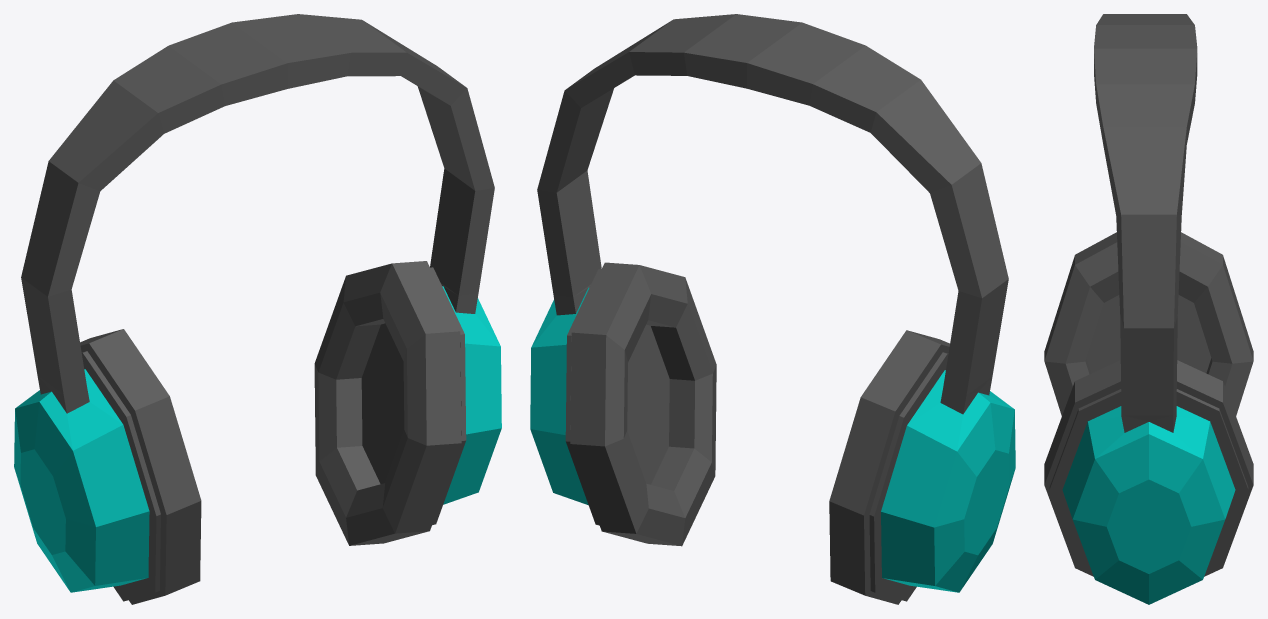
The model's file is headphones.glb.
3 renders of one model, left to right at view 1: azimuth 30°, elevation 25°; view 2: azimuth 150°, elevation 25°; view 3: azimuth 270°, elevation 25°, orthographic. The views are drawn at different scales.
Visible parts, largest first — view 1: Headphones_01_Circle; view 2: Headphones_01_Circle; view 3: Headphones_01_Circle.
Boxes of the visible parts, left/top/right/bottom form: Headphones_01_Circle: left=14, top=14, right=501, bottom=604; Headphones_01_Circle: left=530, top=14, right=1015, bottom=604; Headphones_01_Circle: left=1044, top=14, right=1253, bottom=604.
Size of the model in its own units: 0.7023 by 0.7998 by 0.3054.
